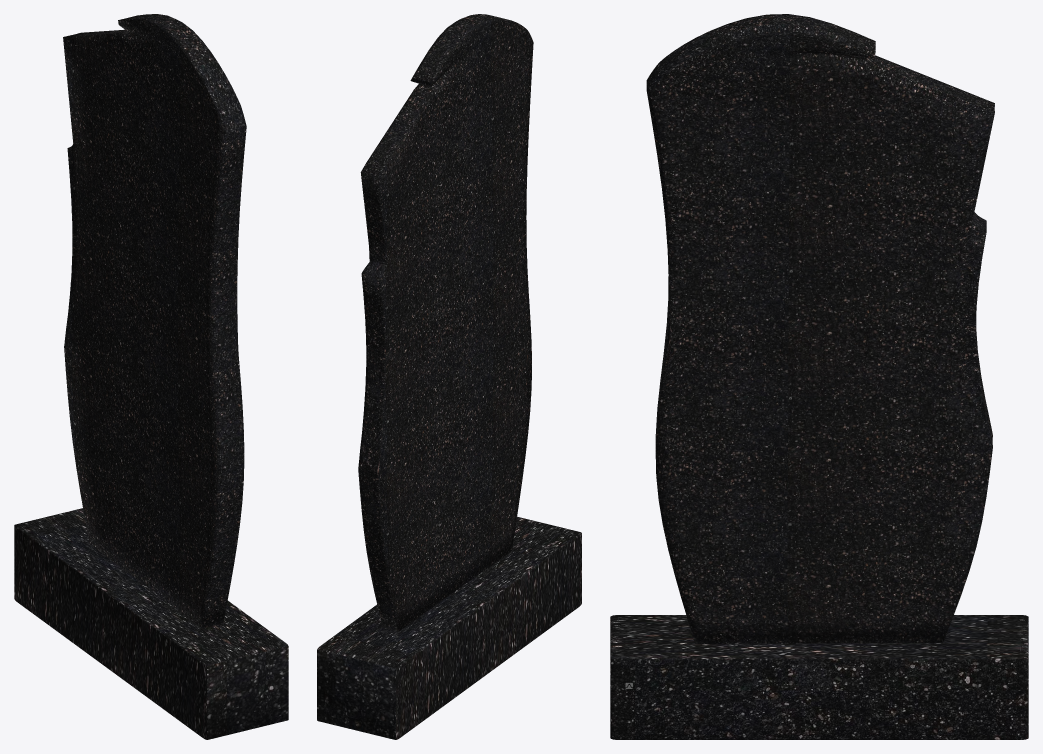
Rendered from Памятник Тюльпан 2 [granite_1_standard] (100).glb.
The picture shows the model from 3 angles, left to right: view 1: azimuth 30°, elevation 25°; view 2: azimuth 150°, elevation 25°; view 3: azimuth 270°, elevation 25°; orthographic projection. The views are drawn at different scales.
Visible parts, largest first — view 1: Cube.044, Куб.093; view 2: Cube.044, Куб.093; view 3: Cube.044, Куб.093.
Boxes of the visible parts, left/top/right/bottom form: Cube.044: left=63, top=14, right=246, bottom=628; Куб.093: left=14, top=508, right=288, bottom=739; Cube.044: left=358, top=14, right=533, bottom=631; Куб.093: left=317, top=516, right=581, bottom=739; Cube.044: left=646, top=14, right=994, bottom=643; Куб.093: left=610, top=615, right=1028, bottom=739.
Bounding box in the file's own units: 0.15 × 1.11 × 0.6.
1 material, 1 textured.
